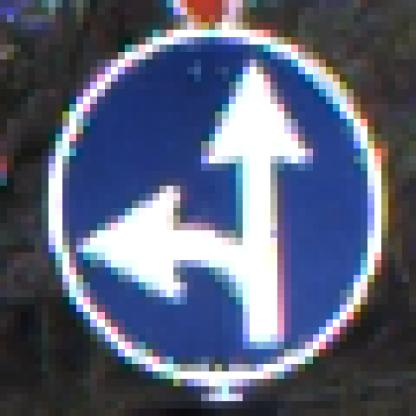Straight or Left: (43, 38, 382, 380)
